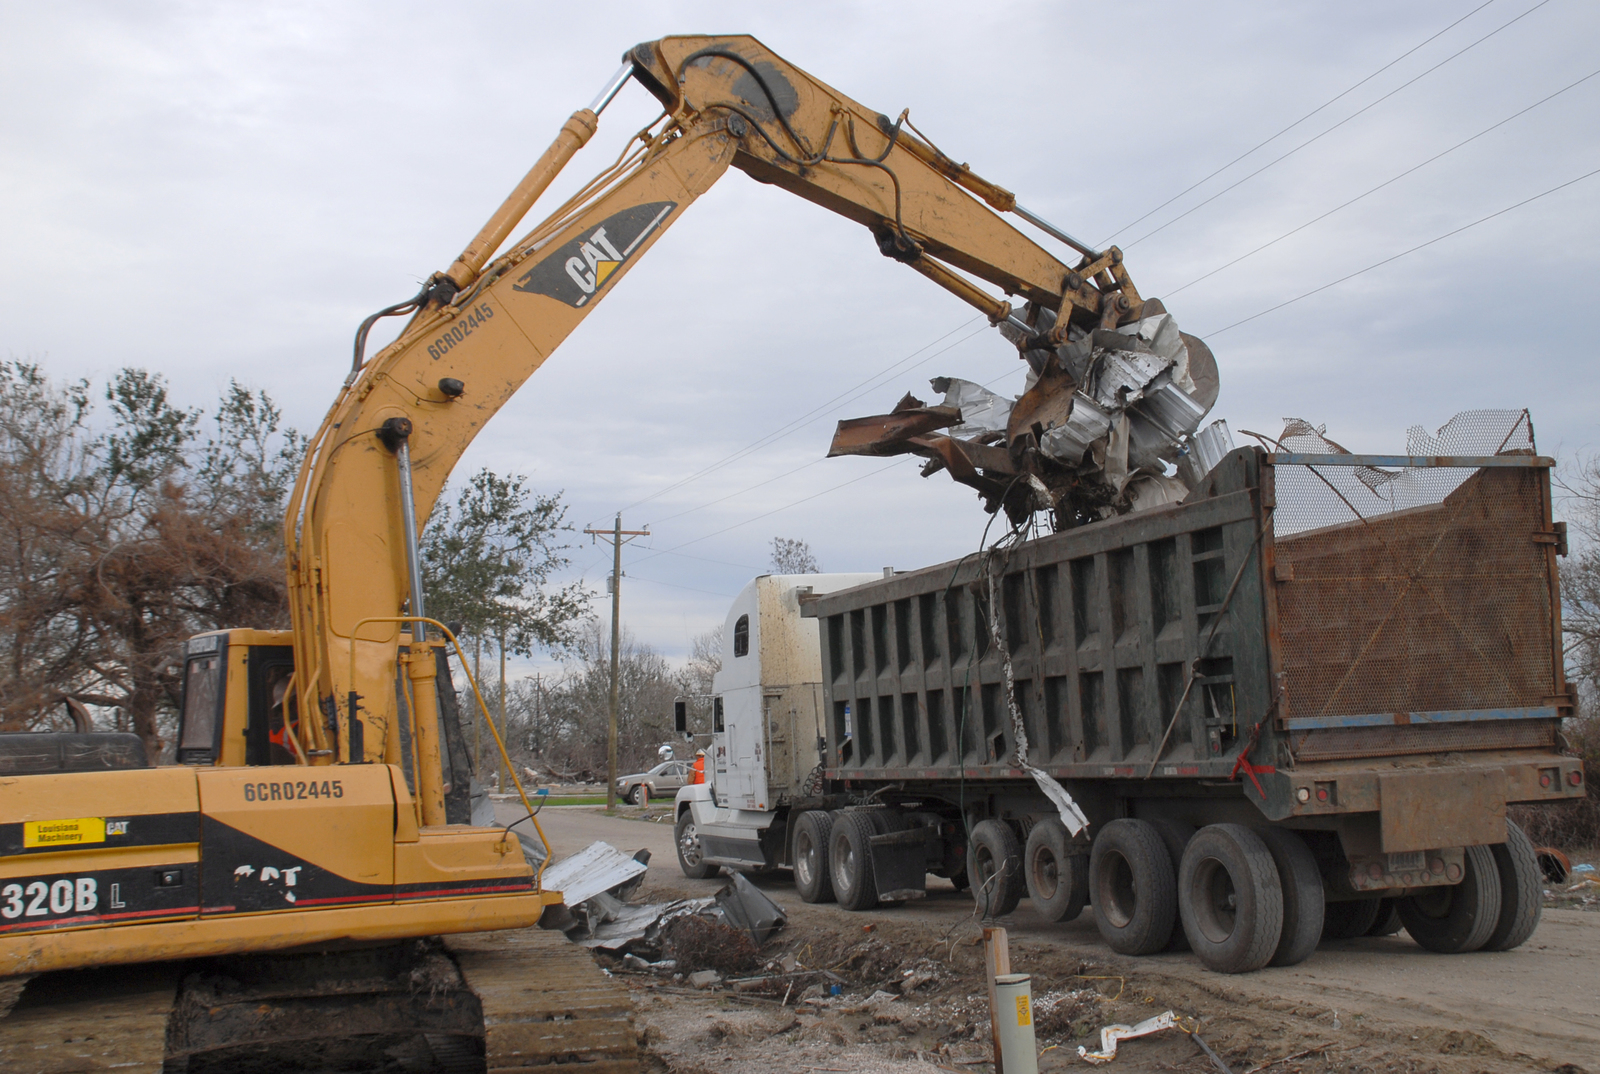excavator: (0, 47, 1263, 1074)
truck: (668, 445, 1583, 966)
